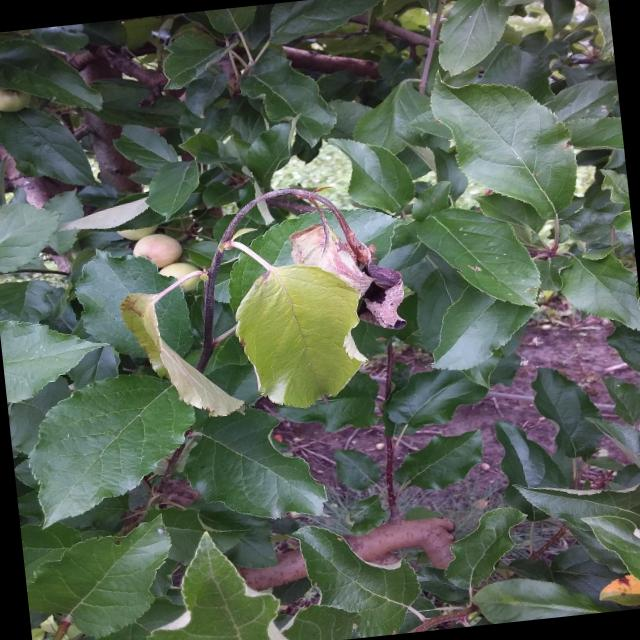-FireBlight-: (215, 191, 407, 329)
